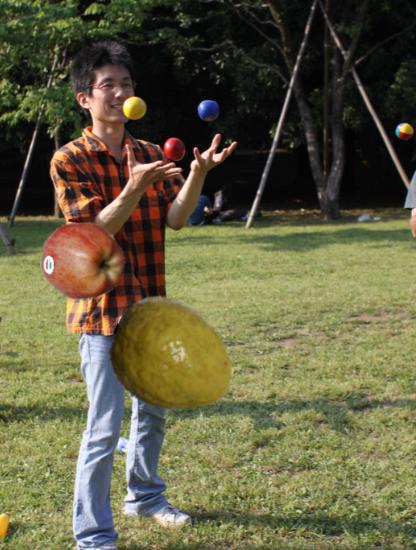Apple: (40, 218, 127, 305)
Guava: (109, 292, 239, 422)
